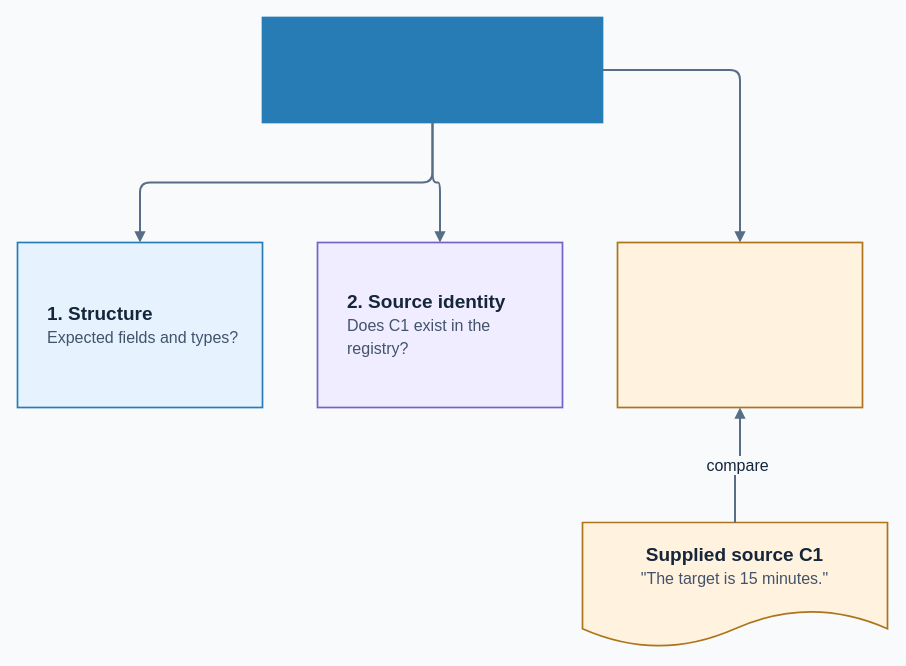
The diagram is 906 pixels wide and 666 high, and some of its shapes have lost their labels. Here are the shapes that lost their labels. From the top down, the centre of each, then its label:
(x=432, y=69): Generated claim "The target is 30 minutes. [C1]"
(x=739, y=324): 3. Evidence support Does C1 actually say 30 min?
